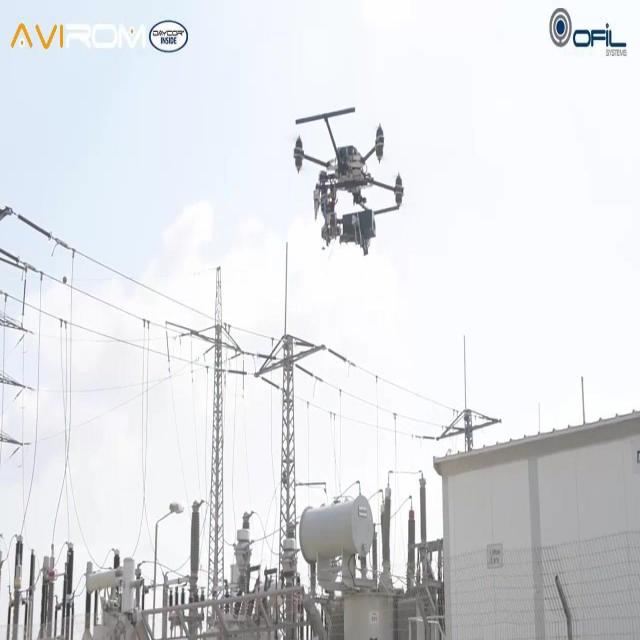UAV: (294, 108, 404, 215)
